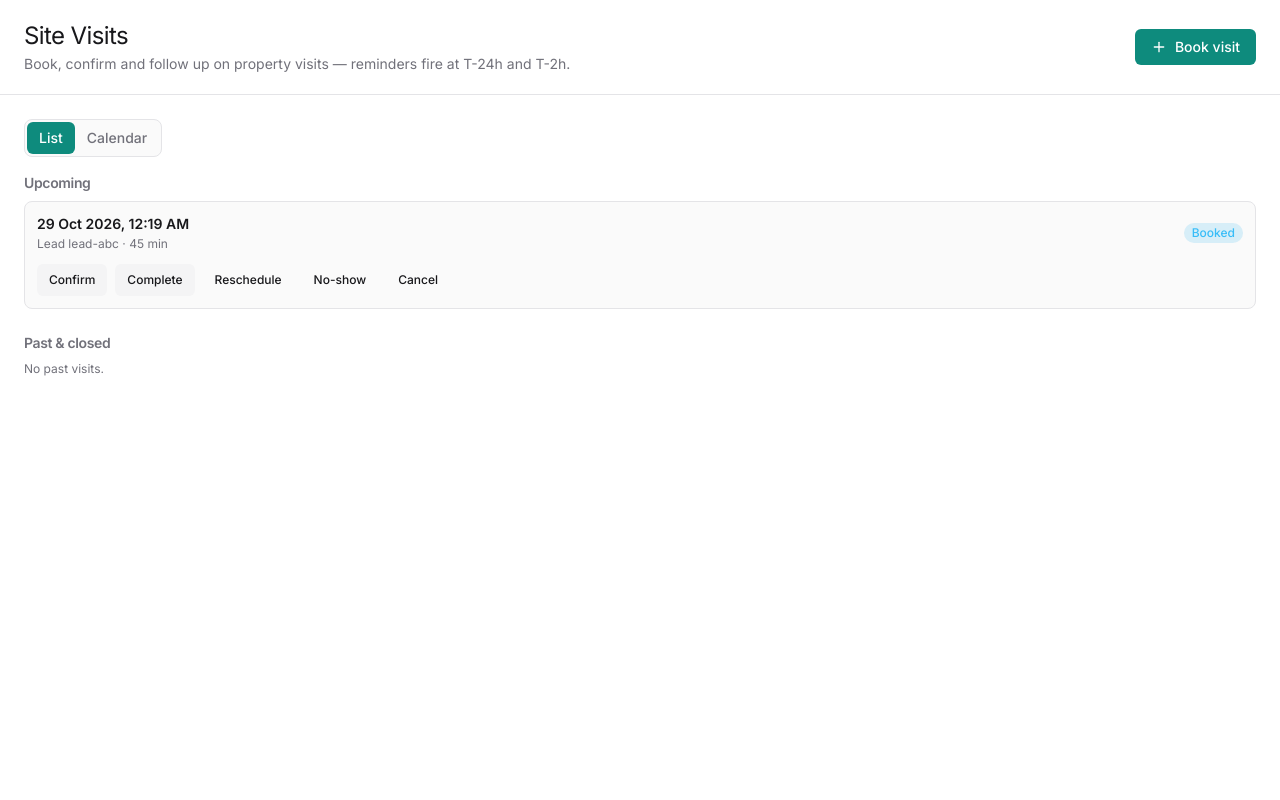
SiteVisitsPage reschedule modal › closes without writing when Cancel is pressed
Step 1. Click the button "Reschedule" → coordinates (248, 280), box [203,264,294,296]
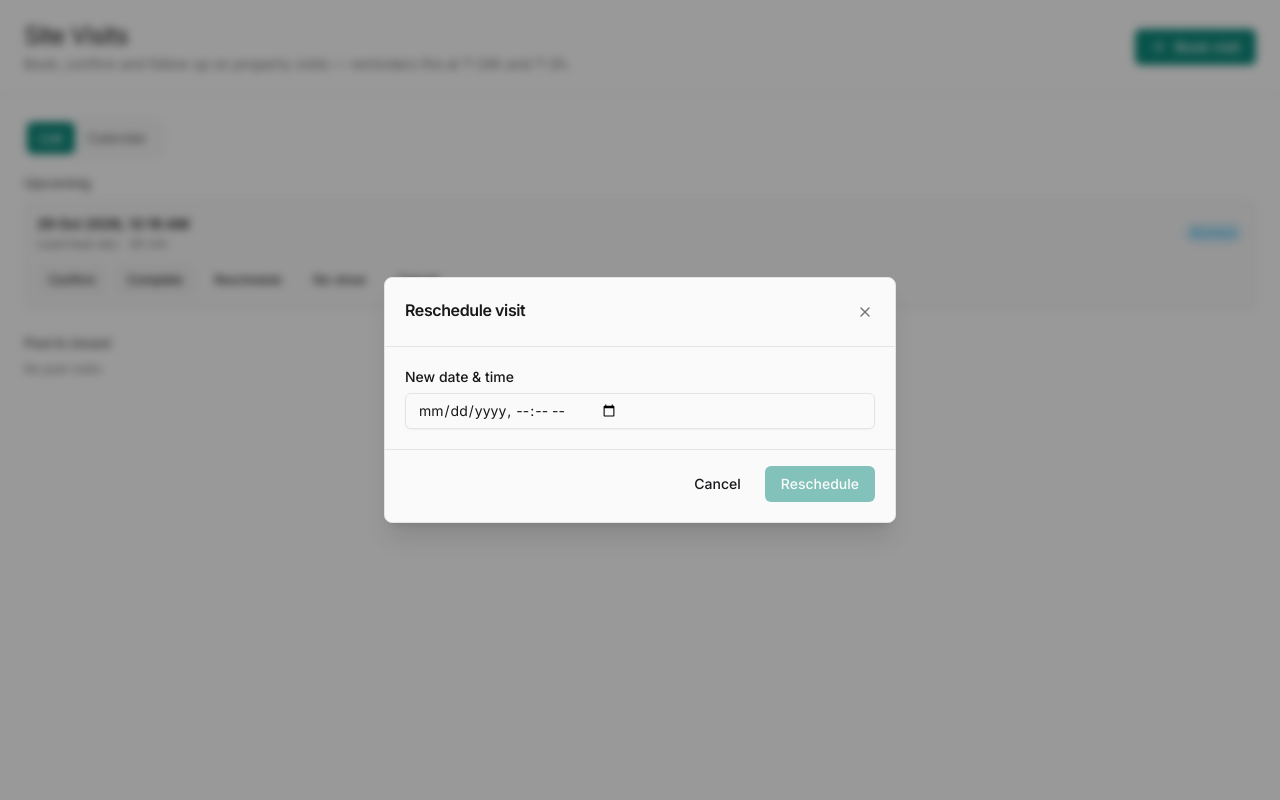
Step 2. Click the button "Cancel" → coordinates (718, 484), box [678,466,757,502]
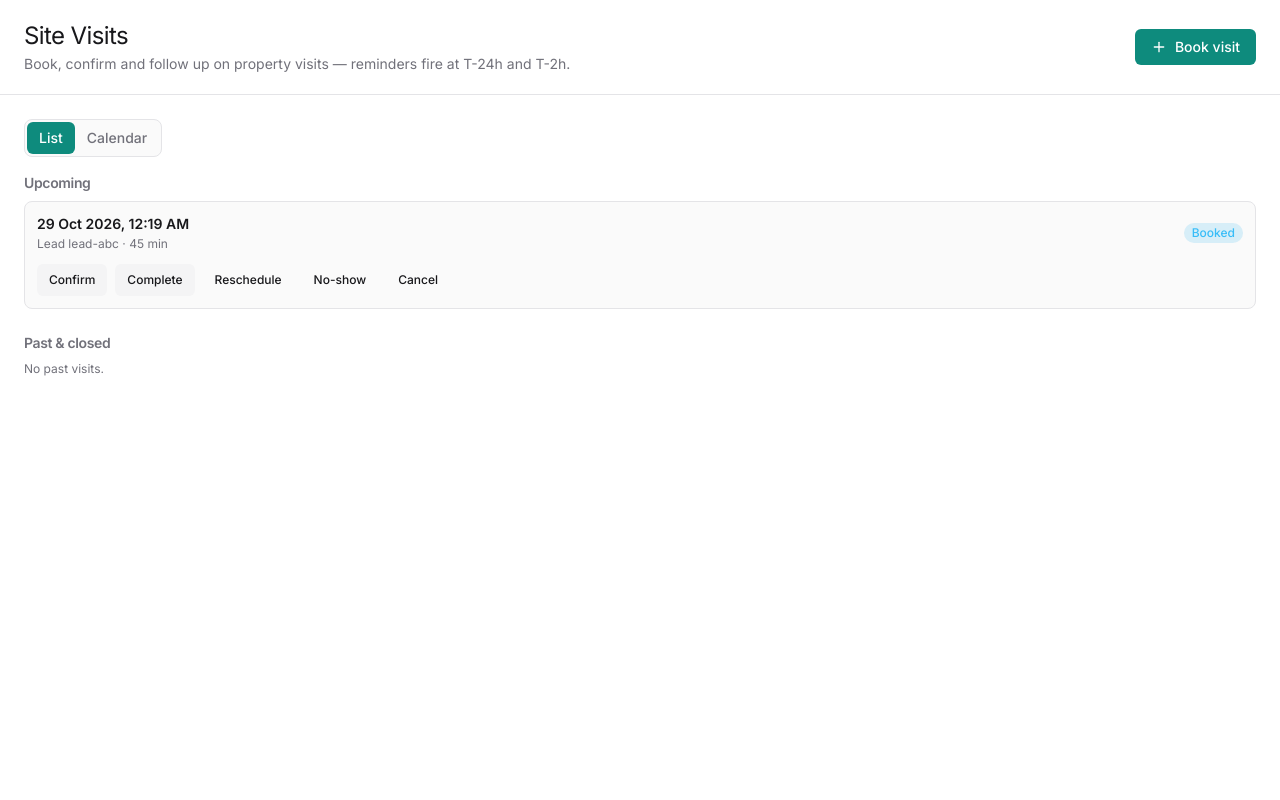
Check: the dialog is gone
